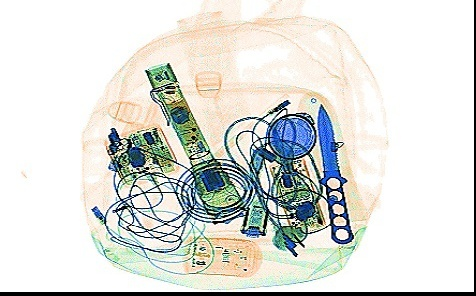knife: (315, 102, 354, 246)
